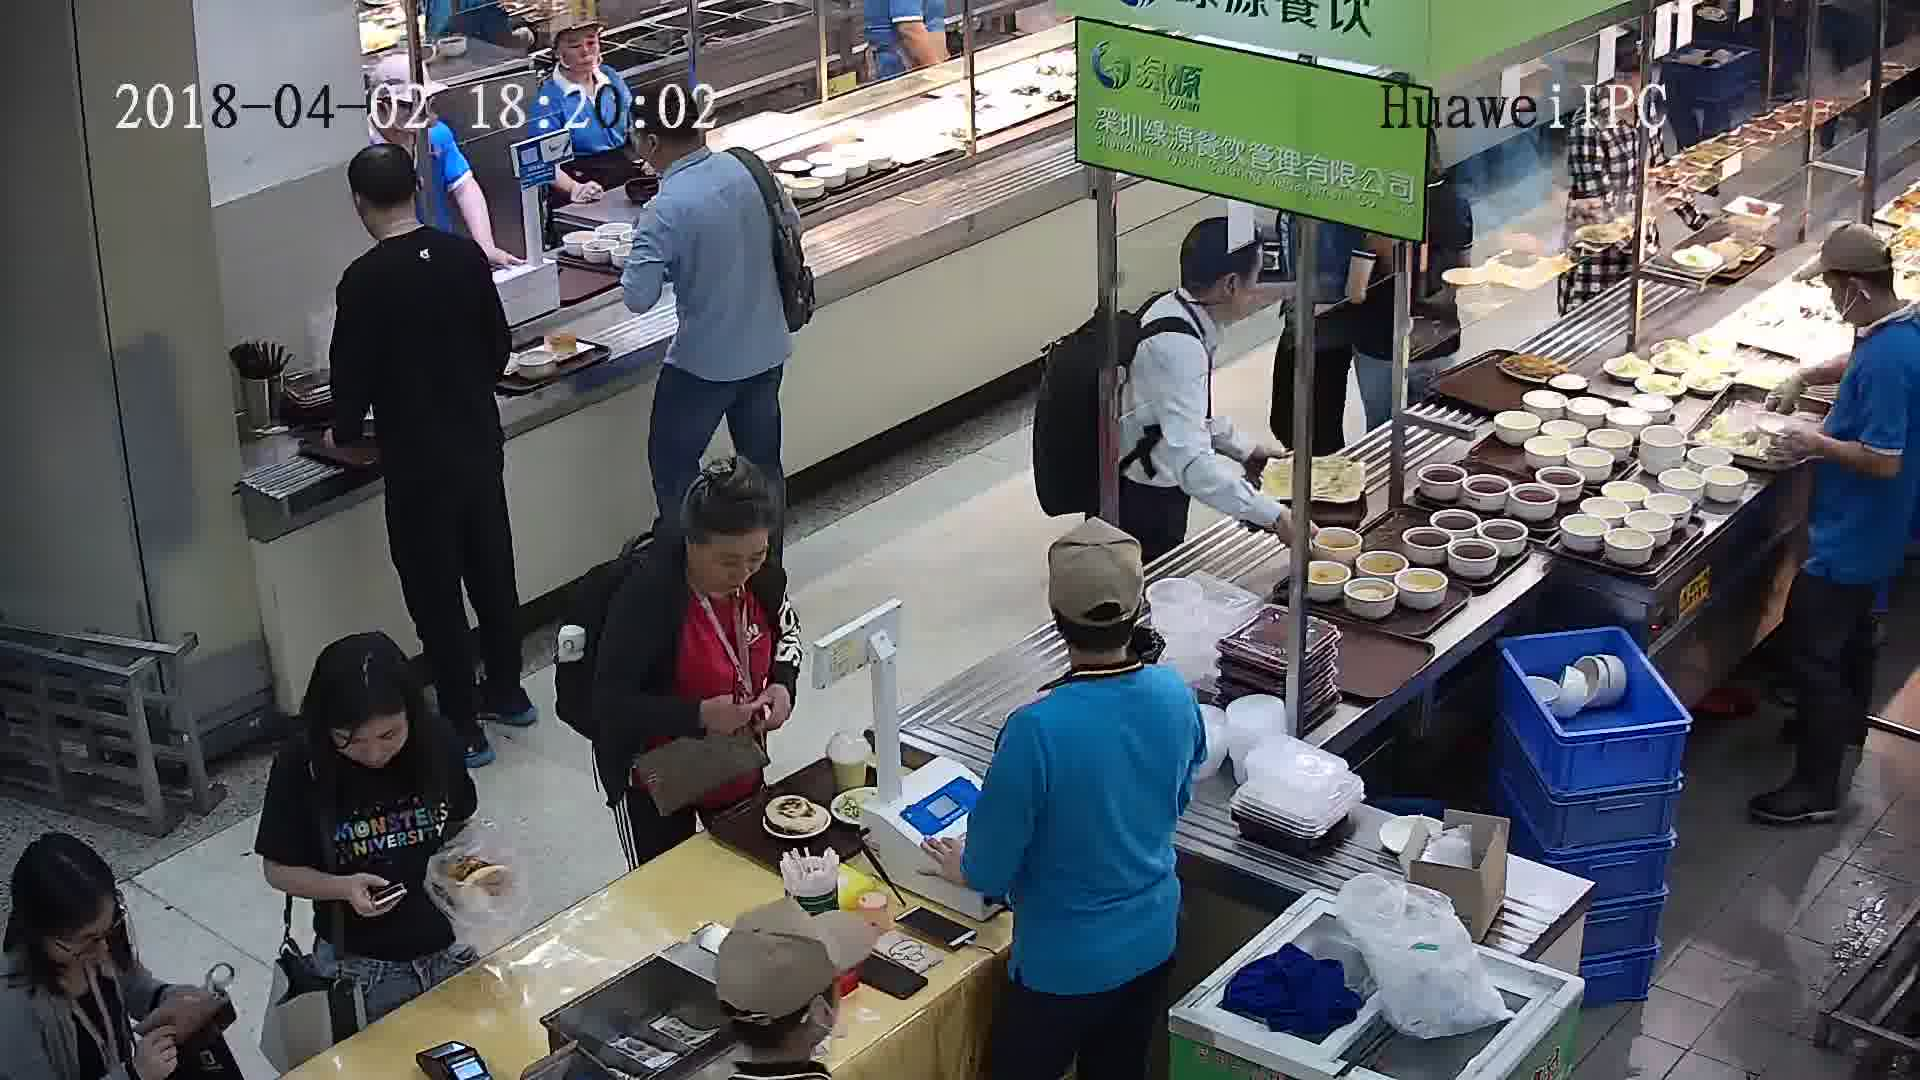face: (1216, 249, 1287, 320), (697, 527, 766, 596), (334, 706, 401, 773), (49, 898, 114, 963), (559, 30, 603, 74)
person: (998, 519, 1201, 765), (0, 831, 188, 1042), (264, 628, 467, 818), (610, 459, 783, 656), (331, 141, 486, 304), (1133, 213, 1266, 383), (628, 84, 775, 229), (1808, 229, 1920, 391), (372, 41, 459, 165), (535, 22, 628, 109)
